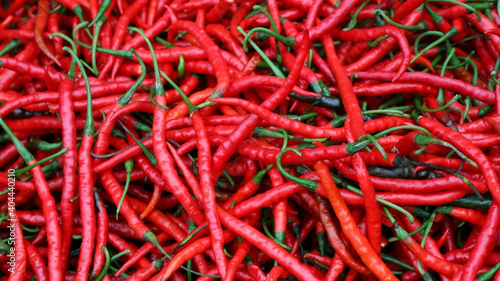Cabai: (144, 44, 362, 236)
